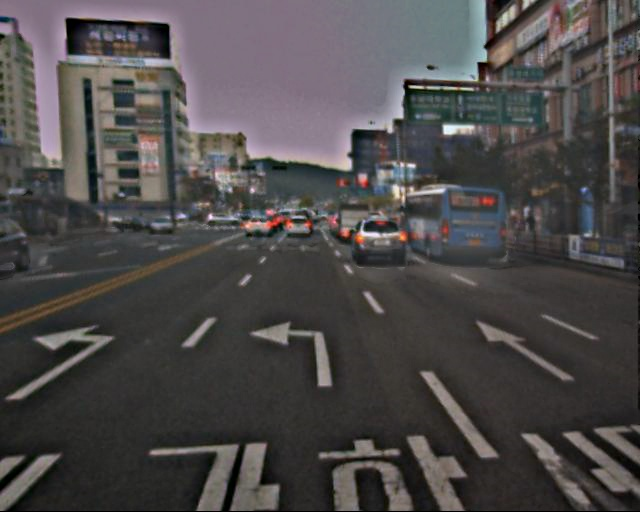person: (524, 210, 540, 248)
